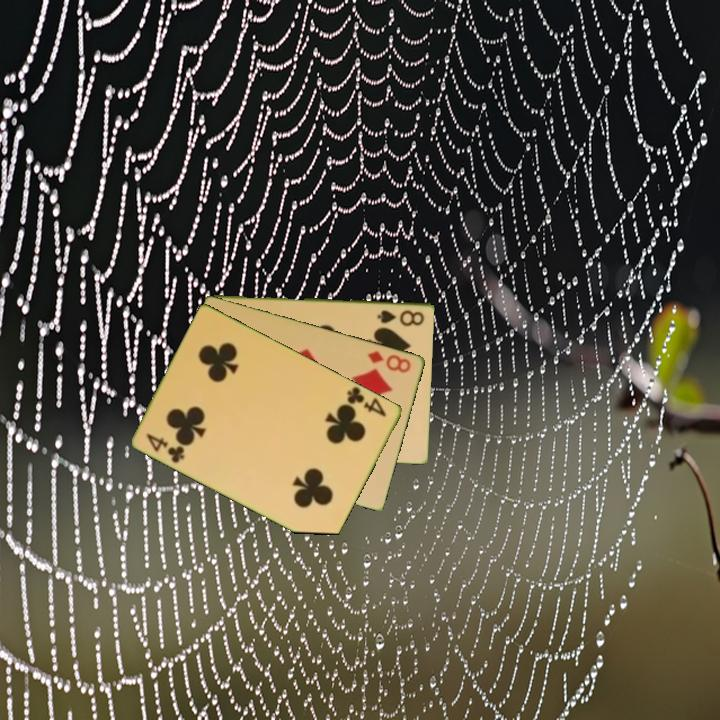4c: (342, 383, 390, 419), (143, 429, 188, 466)
8d: (364, 347, 414, 375)
8s: (374, 306, 427, 328)
